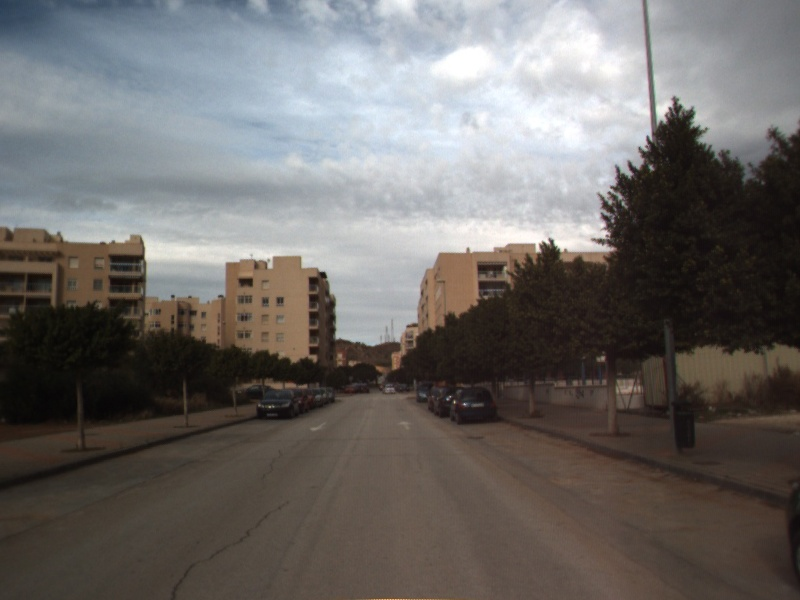STRAIGHT: (395, 419, 416, 432)
